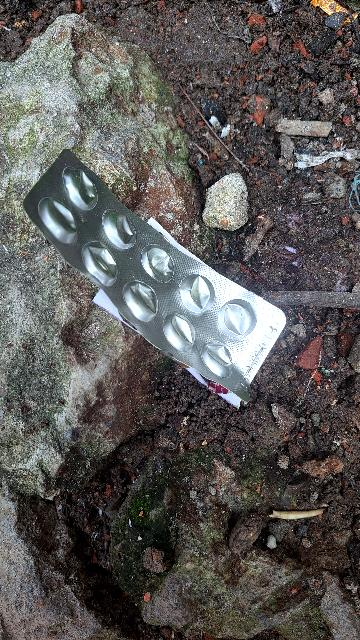medicine: (5, 110, 319, 416)
